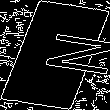N_W: (8, 29, 102, 81)
